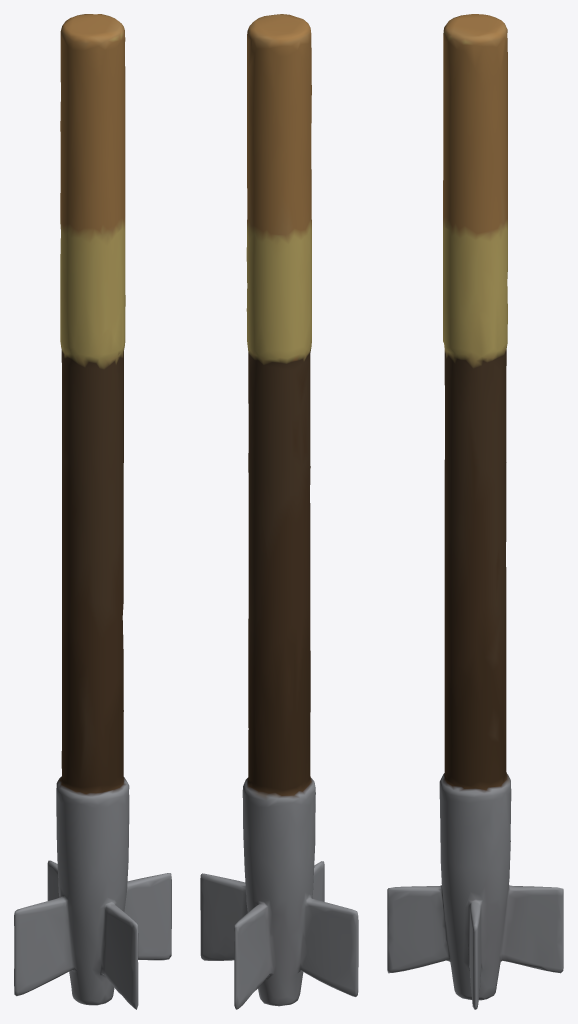
Rendered from gen3d-rake-lod0.glb.
The picture shows the model from 3 angles, left to right: view 1: azimuth 30°, elevation 25°; view 2: azimuth 150°, elevation 25°; view 3: azimuth 270°, elevation 25°; orthographic projection.
Visible parts, largest first — view 1: part_0; view 2: part_0; view 3: part_0.
Part boxes in pixels (x1,y1,x2,y2): part_0: (14, 14, 171, 1009); part_0: (200, 14, 358, 1009); part_0: (387, 14, 563, 1009).
Bounding box in the file's own units: 0.1692 × 1 × 0.1651.
